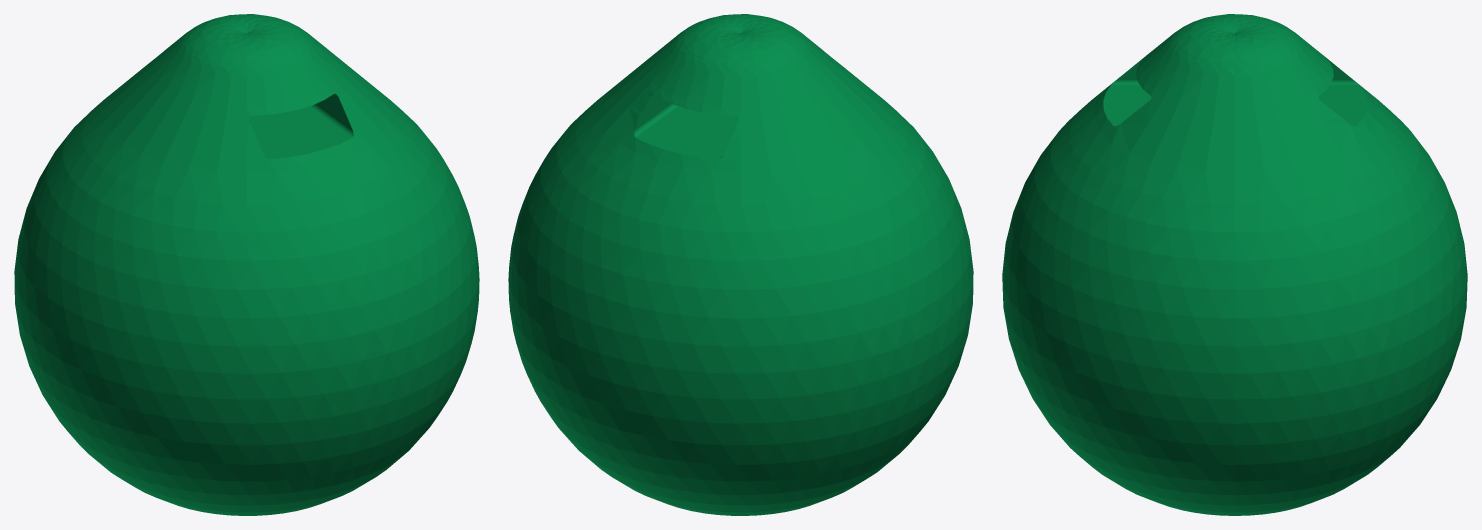
Rendered from green_ball.obj.
The picture shows the model from 3 angles, left to right: view 1: azimuth 30°, elevation 25°; view 2: azimuth 150°, elevation 25°; view 3: azimuth 270°, elevation 25°; orthographic projection.
Parts seen in each view (by area): view 1: ball_buoy; view 2: ball_buoy; view 3: ball_buoy.
Part boxes in pixels (<box>): ball_buoy: <box>14,14,479,515</box>; ball_buoy: <box>508,14,973,515</box>; ball_buoy: <box>1002,14,1467,515</box>.
Bounding box in the file's own units: 11.76 × 12.98 × 11.77.
